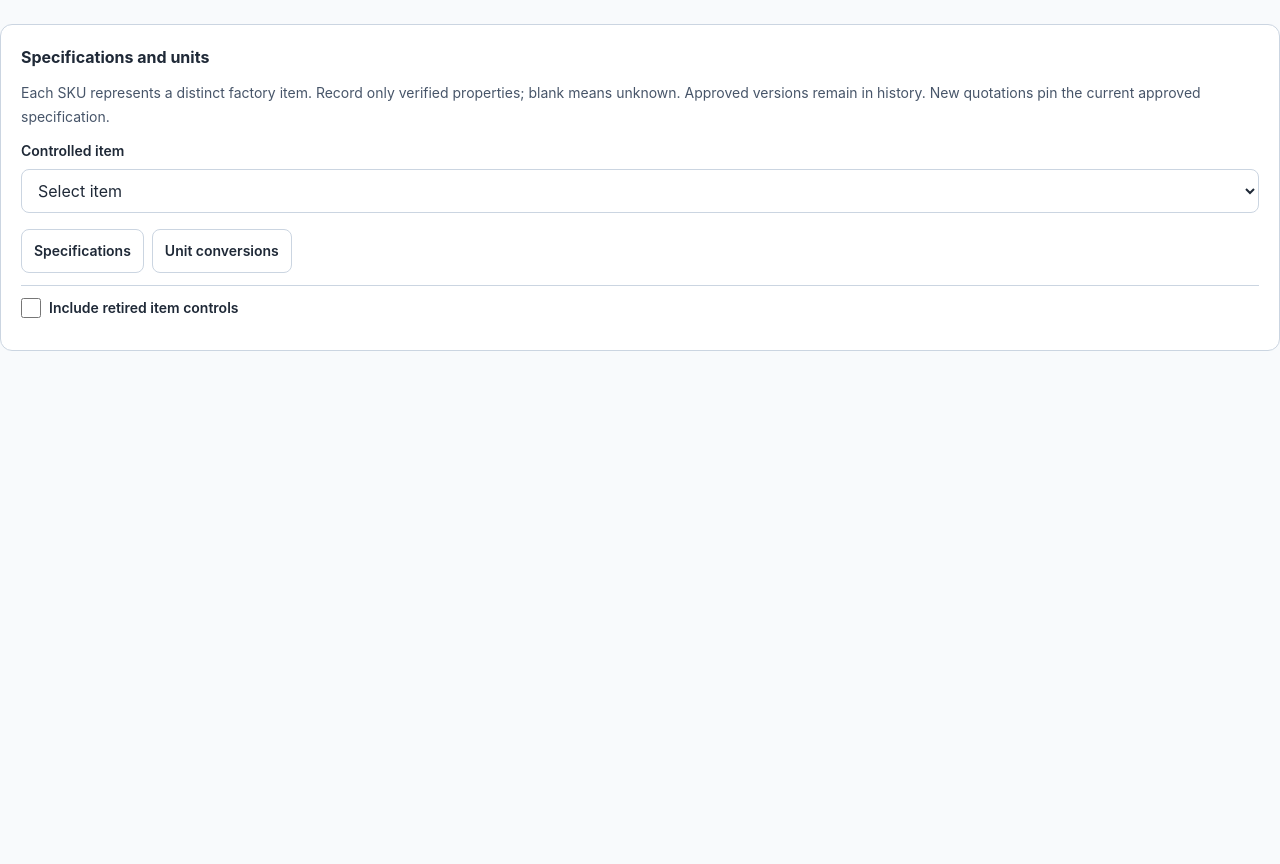
Test: retains failed inputs and never announces an unconfirmed specification
Step 1. Select "SAMPLE-BOLT — SAMPLE bolt" in the dropdown labelled "Controlled item" → (640, 191), box [21,169,1259,213]
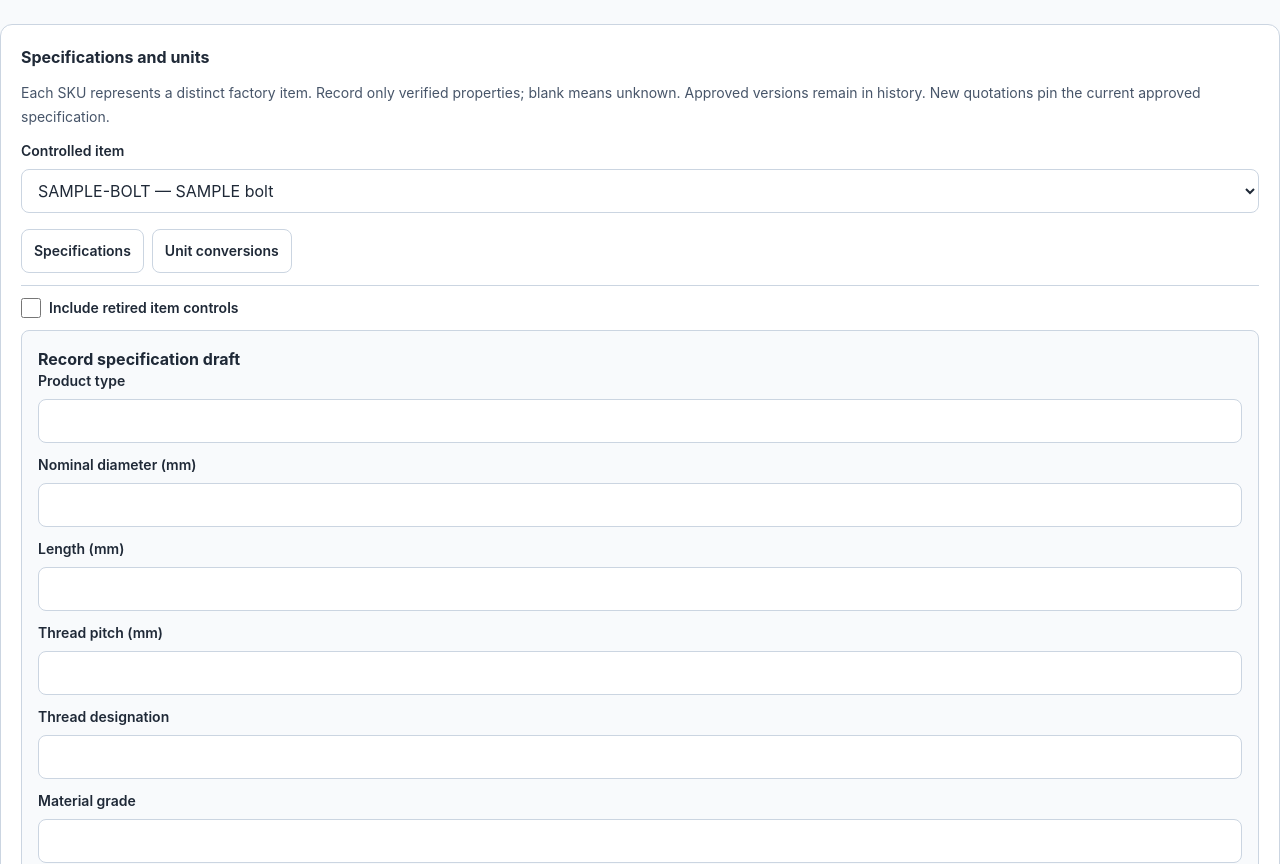
Step 2. Type "SAMPLE bolt" into the field labelled "Product type" → (640, 421), box [38,399,1242,443]
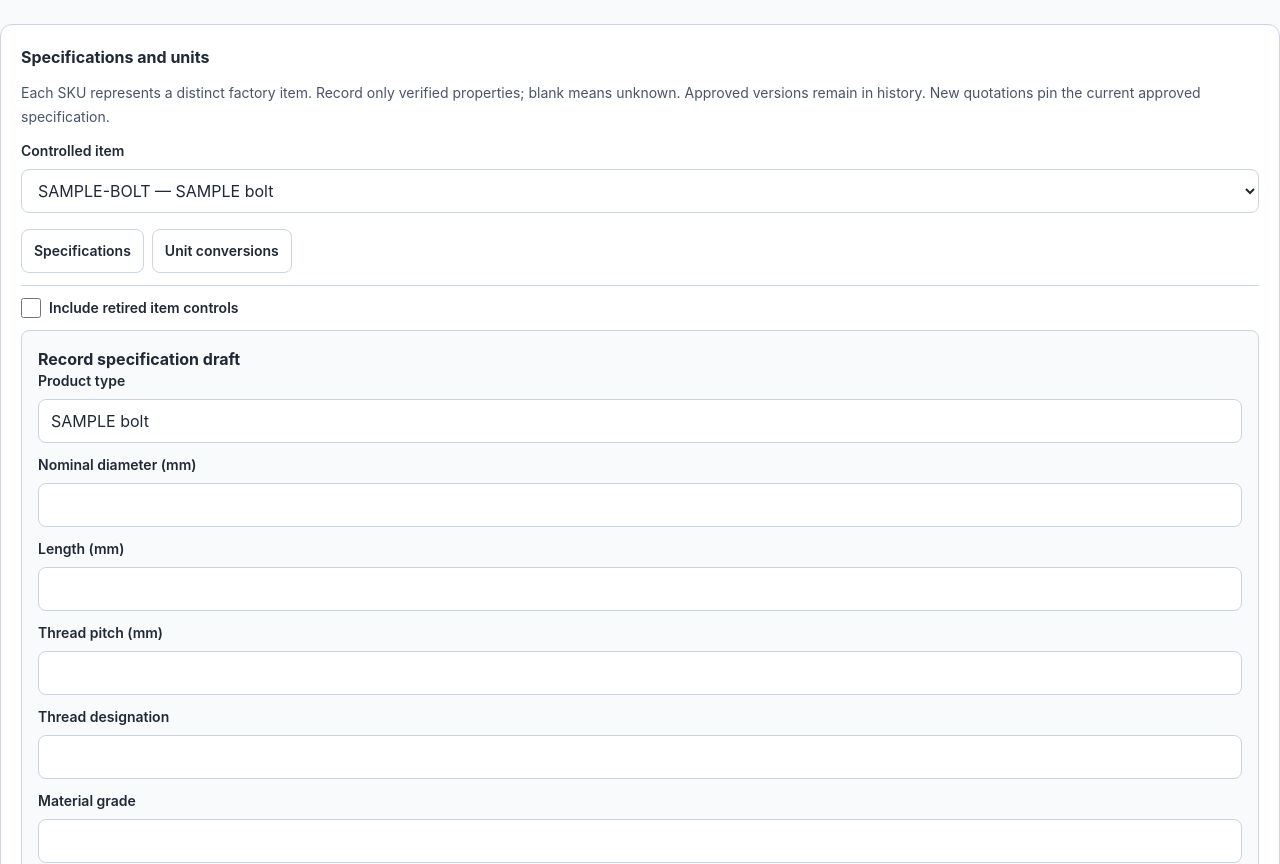
Step 3. Type "8.000001" into the field labelled "Nominal diameter (mm)" → (640, 505), box [38,483,1242,527]
(page scrolled)
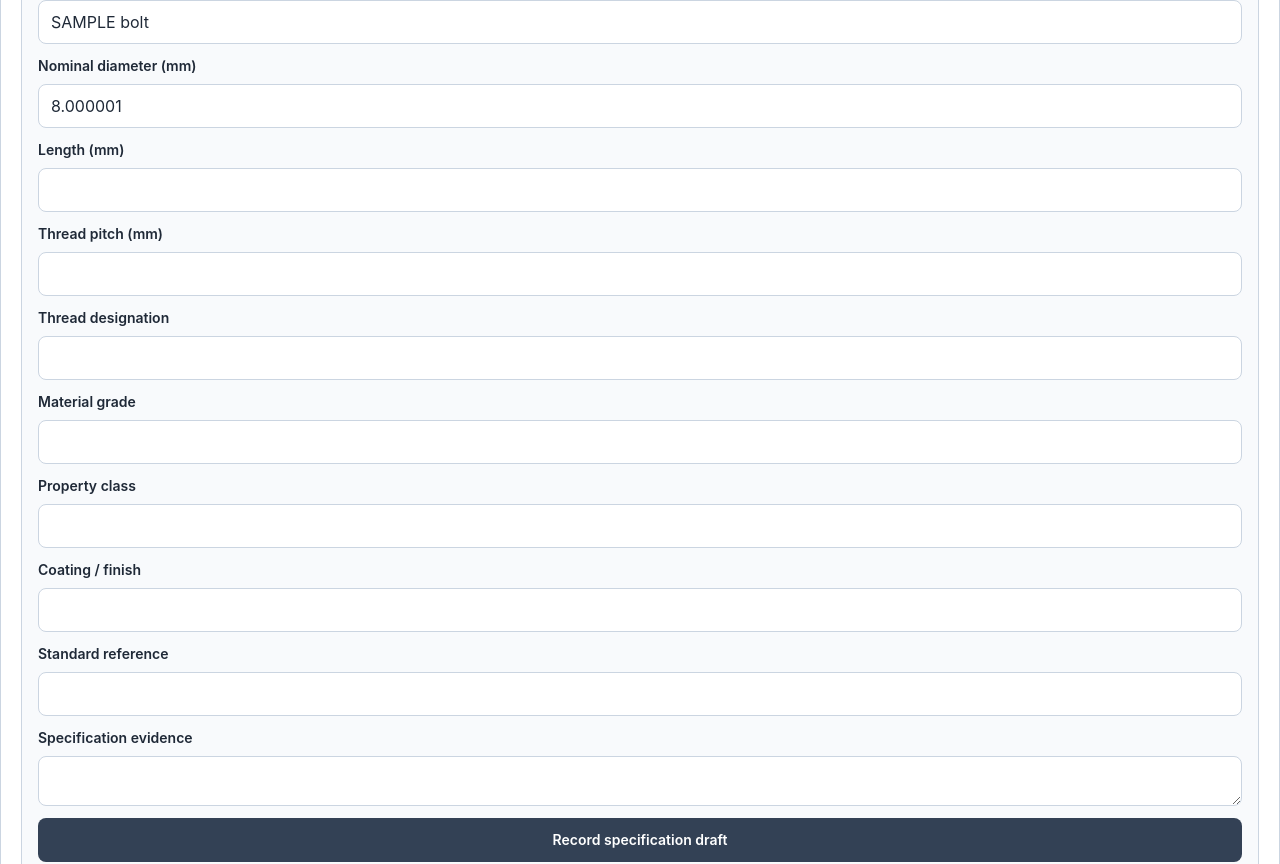
Step 4. Type "SAMPLE measured" into the text box labelled "Specification evidence" → (640, 781), box [38,756,1242,806]
(page scrolled)
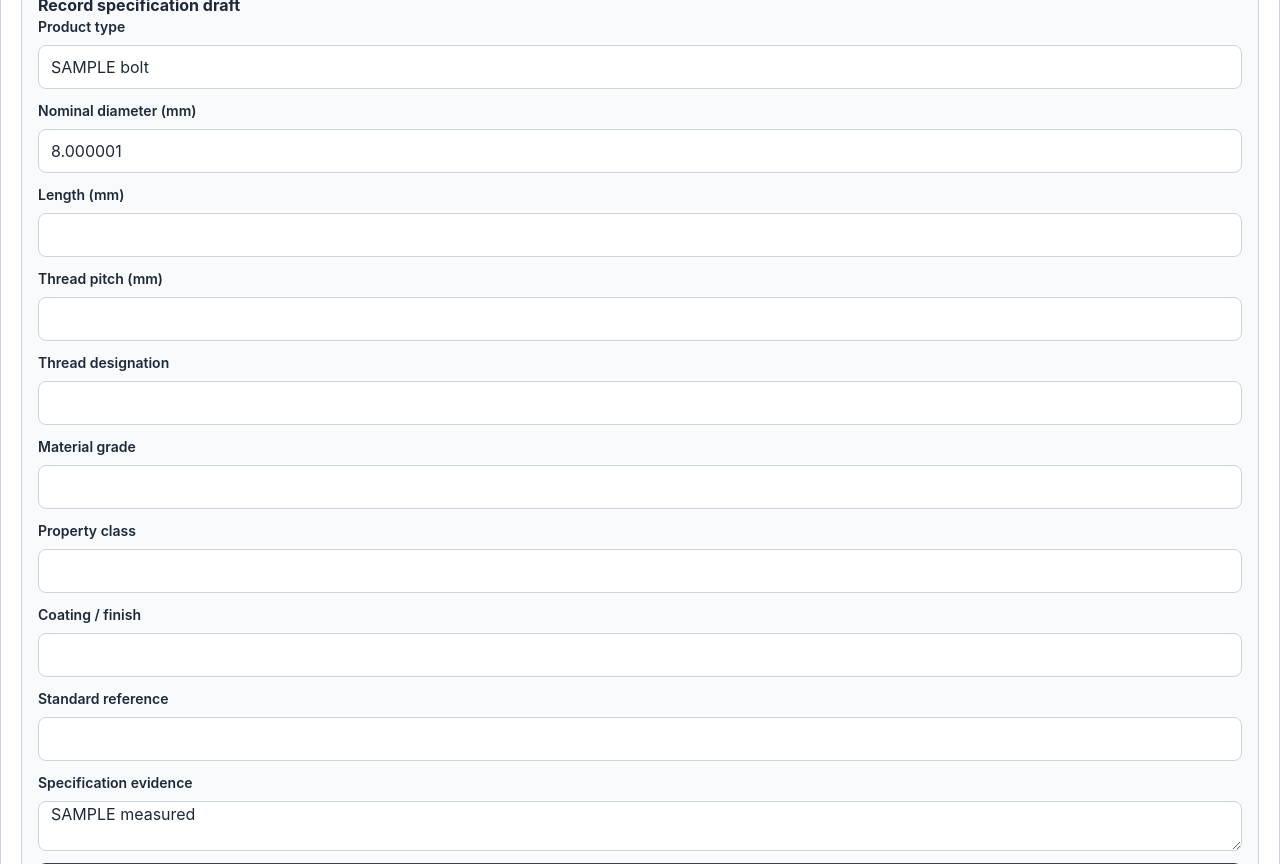
Step 5. Submit the form "Record specification draft"
(page scrolled)
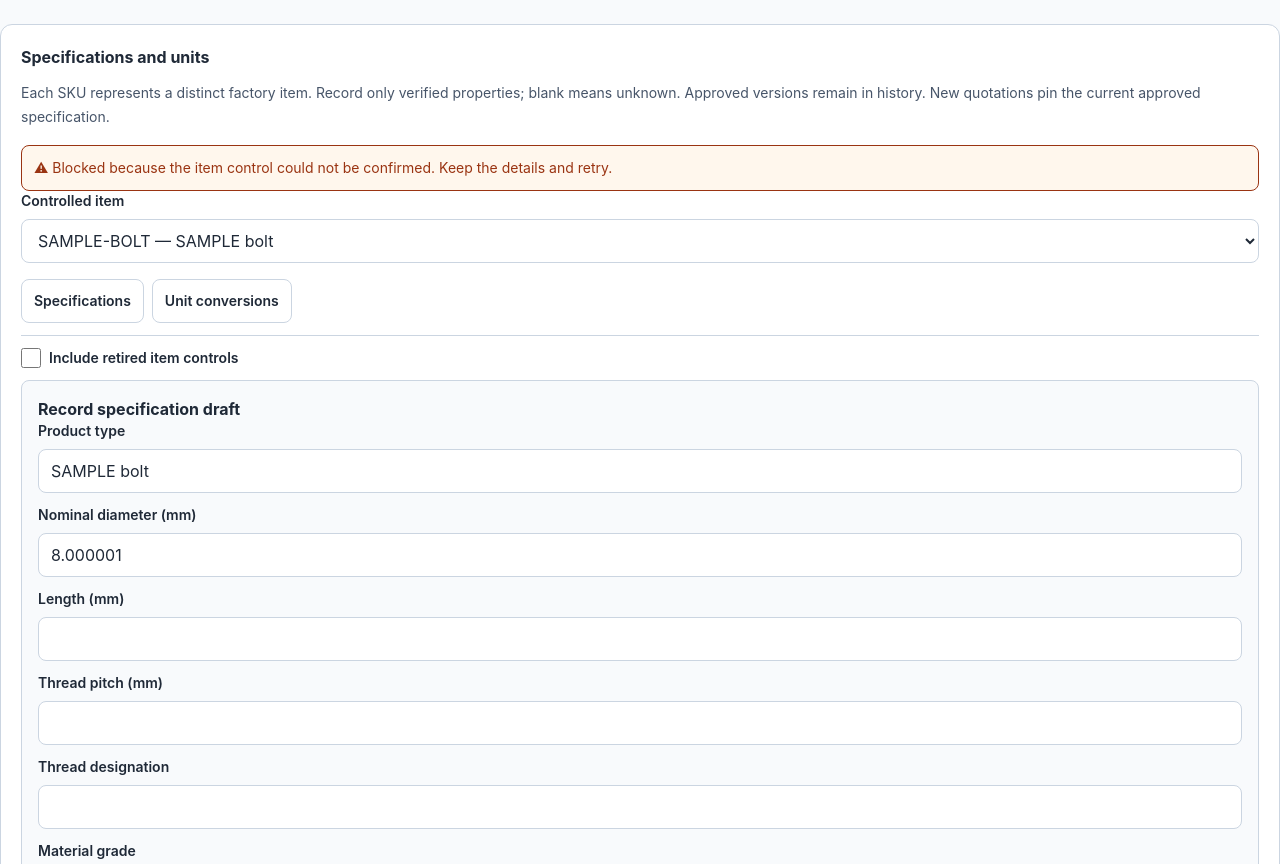
Result: the message shows "could not be confirmed" at [52,159,612,176]
